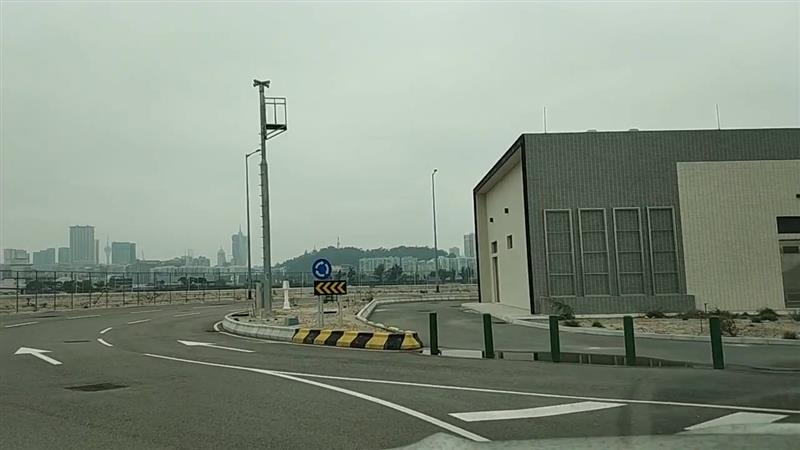roadUp: (14, 346, 64, 366)
roundaboutBlue: (312, 258, 333, 280)
